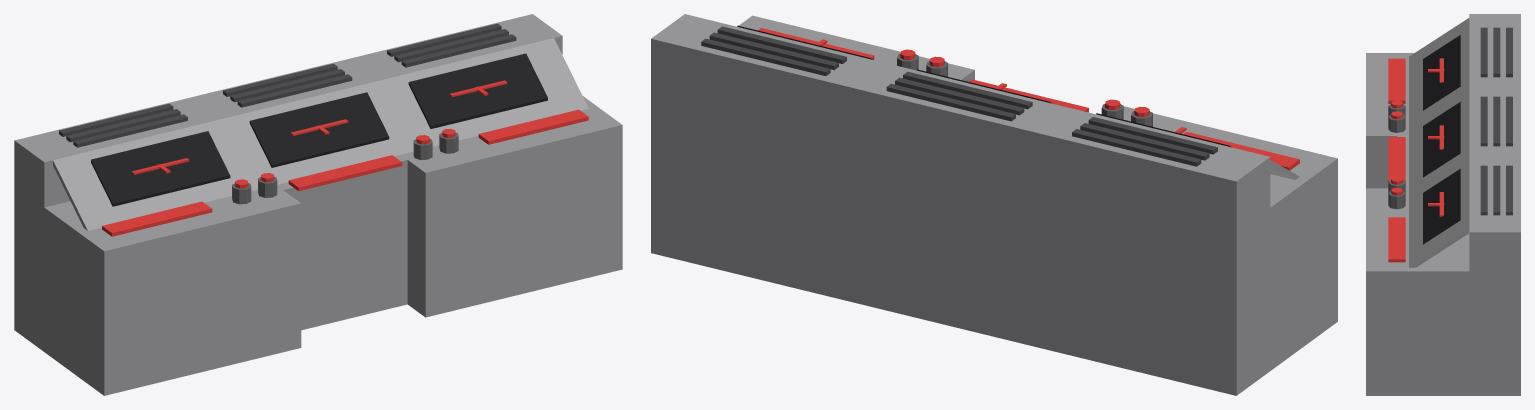
File: vge_e_targeting_console.obj
The picture shows the model from 3 angles, left to right: view 1: azimuth 30°, elevation 25°; view 2: azimuth 150°, elevation 25°; view 3: azimuth 270°, elevation 25°; orthographic projection. The views are drawn at different scales.
Visible parts, largest first — view 1: vge_targeting_console_2, vge_targeting_console_1, vge_targeting_console_0, vge_targeting_console_13, vge_targeting_console_3, vge_targeting_console_17, vge_targeting_console_14, vge_targeting_console_20, vge_targeting_console_24, vge_targeting_console_23, vge_targeting_console_25, vge_targeting_console_10 (+8 smaller); view 2: vge_targeting_console_0, vge_targeting_console_3, vge_targeting_console_1, vge_targeting_console_2, vge_targeting_console_6, vge_targeting_console_9, vge_targeting_console_12, vge_targeting_console_5, vge_targeting_console_8, vge_targeting_console_11, vge_targeting_console_7, vge_targeting_console_4 (+2 smaller); view 3: vge_targeting_console_0, vge_targeting_console_3, vge_targeting_console_13, vge_targeting_console_2, vge_targeting_console_1, vge_targeting_console_17, vge_targeting_console_14, vge_targeting_console_20, vge_targeting_console_25, vge_targeting_console_23, vge_targeting_console_24, vge_targeting_console_4 (+10 smaller).
Part boxes in pixels (<box>): vge_targeting_console_2: <box>407,112,622,317</box>; vge_targeting_console_1: <box>86,190,301,395</box>; vge_targeting_console_0: <box>14,96,604,382</box>; vge_targeting_console_13: <box>53,38,588,230</box>; vge_targeting_console_3: <box>14,14,562,207</box>; vge_targeting_console_17: <box>249,92,389,167</box>; vge_targeting_console_14: <box>91,131,230,206</box>; vge_targeting_console_20: <box>408,53,547,128</box>; vge_targeting_console_24: <box>288,155,402,191</box>; vge_targeting_console_23: <box>102,201,212,236</box>; vge_targeting_console_25: <box>478,109,588,144</box>; vge_targeting_console_10: <box>401,34,516,67</box>; vge_targeting_console_0: <box>651,90,1317,395</box>; vge_targeting_console_3: <box>651,14,1270,232</box>; vge_targeting_console_1: <box>1123,106,1337,335</box>; vge_targeting_console_2: <box>739,15,974,81</box>; vge_targeting_console_6: <box>1072,129,1201,166</box>; vge_targeting_console_9: <box>886,83,1015,121</box>; vge_targeting_console_12: <box>701,38,830,75</box>; vge_targeting_console_5: <box>1080,123,1209,160</box>; vge_targeting_console_8: <box>895,77,1024,115</box>; vge_targeting_console_11: <box>709,32,838,70</box>; vge_targeting_console_7: <box>903,71,1032,109</box>; vge_targeting_console_4: <box>1088,117,1217,154</box>; vge_targeting_console_0: <box>1397,53,1520,395</box>; vge_targeting_console_3: <box>1469,14,1520,271</box>; vge_targeting_console_13: <box>1409,18,1469,267</box>; vge_targeting_console_2: <box>1366,188,1396,395</box>; vge_targeting_console_1: <box>1366,53,1396,188</box>; vge_targeting_console_17: <box>1423,102,1460,177</box>; vge_targeting_console_14: <box>1423,35,1460,110</box>; vge_targeting_console_20: <box>1423,169,1460,244</box>; vge_targeting_console_25: <box>1388,217,1405,262</box>; vge_targeting_console_23: <box>1388,58,1405,103</box>; vge_targeting_console_24: <box>1388,137,1405,181</box>; vge_targeting_console_4: <box>1480,27,1487,77</box>.
Bounding box in the file's own units: 3 × 1.07 × 0.9.
